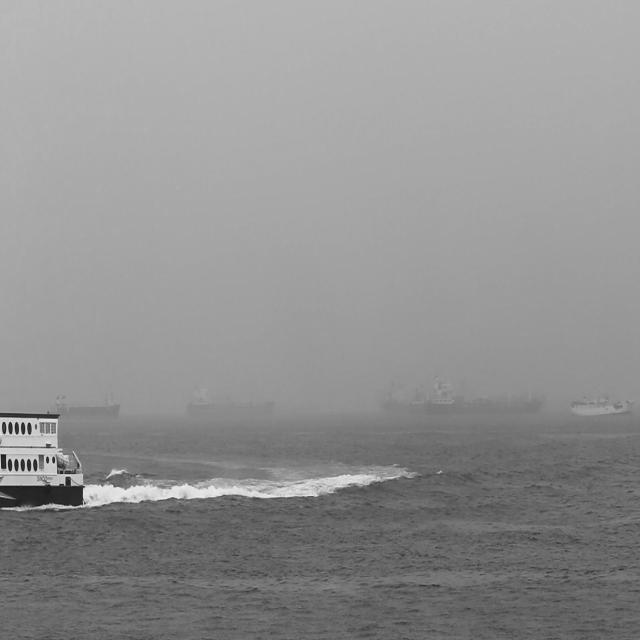ship: (0, 412, 88, 510), (425, 376, 548, 413), (187, 385, 278, 414), (52, 393, 121, 417), (572, 390, 633, 416), (379, 378, 410, 415), (411, 391, 424, 414)
